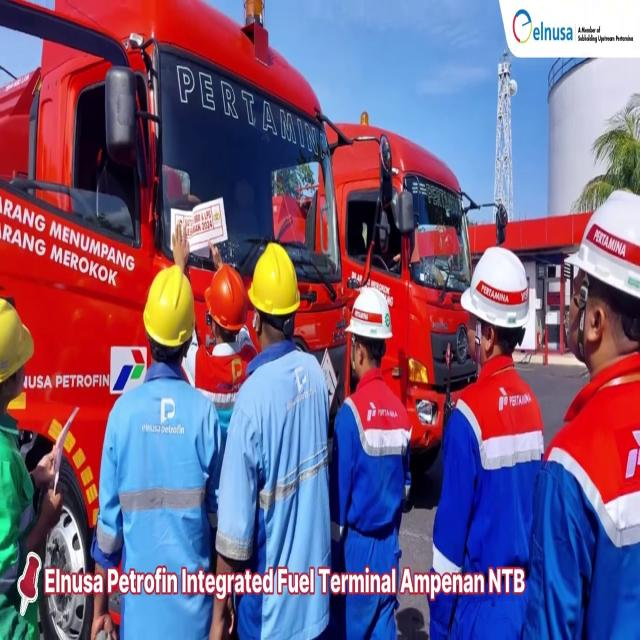Hardhat: (562, 188, 640, 284), (461, 250, 532, 328), (144, 270, 194, 344), (248, 248, 302, 310), (204, 264, 249, 333), (1, 299, 36, 383), (345, 289, 395, 334)
No Glove: (27, 490, 62, 553), (207, 593, 233, 640), (90, 595, 115, 640), (172, 222, 190, 272), (32, 448, 57, 481), (209, 243, 224, 265)
Overall Suit: (526, 356, 640, 639), (432, 355, 542, 640), (331, 368, 411, 640)
Strapped: (578, 276, 590, 361), (474, 318, 483, 362), (350, 335, 357, 374)
